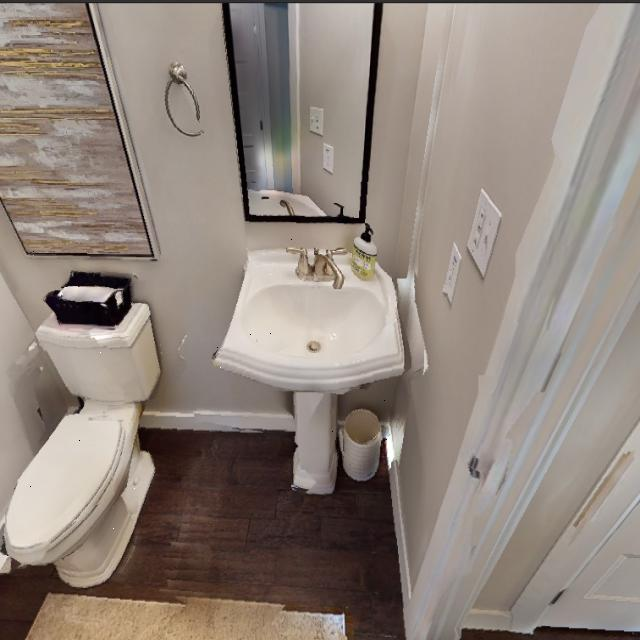sink: (212, 218, 414, 516)
toilet: (0, 249, 179, 593)
